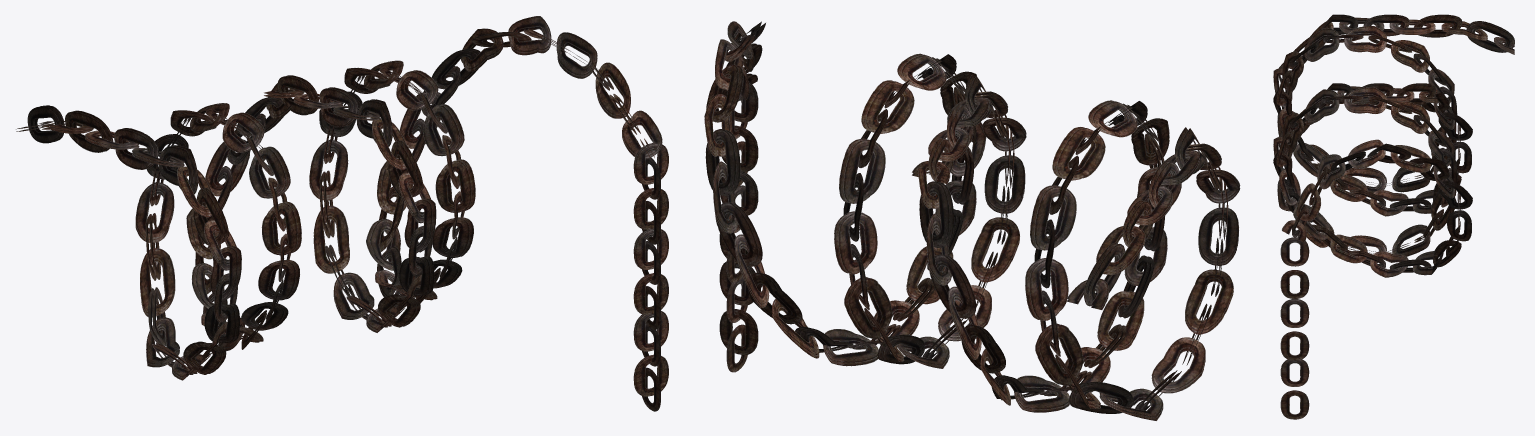
The model's file is chain_beam.dae.
3 renders of one model, left to right at view 1: azimuth 30°, elevation 25°; view 2: azimuth 150°, elevation 25°; view 3: azimuth 270°, elevation 25°, orthographic. The views are drawn at different scales.
Parts seen in each view (by area): view 1: chainbody, chainlink1, chainlink2, chainlink3; view 2: chainbody, chainlink3, chainlink1, chainlink2; view 3: chainbody, chainlink2, chainlink1, chainlink3.
Part boxes in pixels (box(x1,y1,x2,y2)): chainbody: box(16, 16, 662, 380); chainlink1: box(633, 143, 668, 244); chainlink2: box(633, 228, 668, 329); chainlink3: box(633, 311, 668, 411); chainbody: box(704, 21, 1240, 420); chainlink3: box(719, 261, 758, 372); chainlink1: box(722, 81, 758, 187); chainlink2: box(719, 171, 758, 282); chainbody: box(1273, 14, 1514, 277); chainlink2: box(1280, 299, 1309, 360); chainlink1: box(1280, 237, 1309, 298); chainlink3: box(1280, 359, 1309, 419).
Size of the model in its own units: 1.98 by 1.36 by 1.17.
